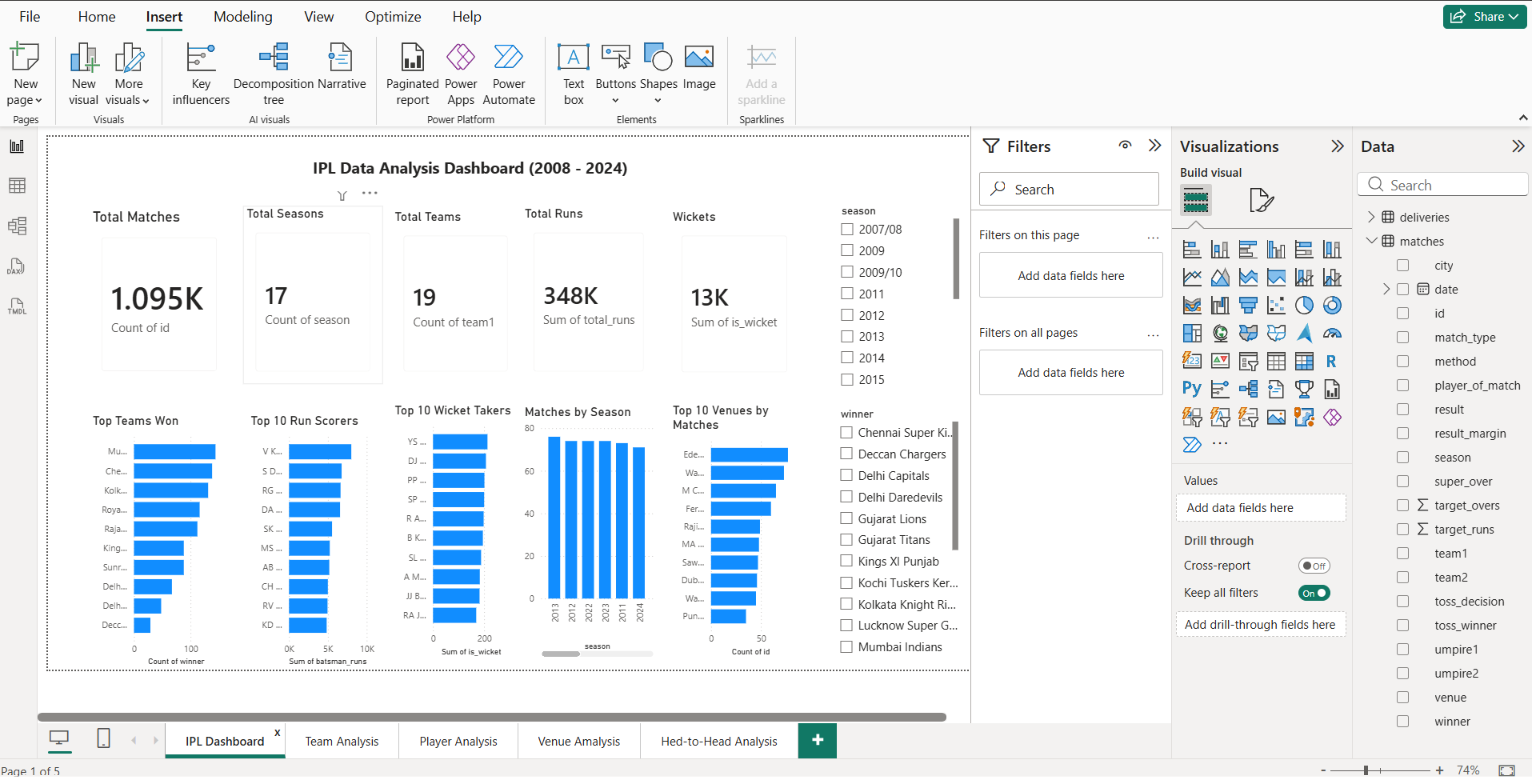

This screenshot's page, from the dashboard's own definition file:
{"tool":"powerbi","page":{"name":"IPL Dashboard","canvas":[1280,720],"ordinal":0},"visuals":[{"type":"cardVisual","title":"Total Matches","fields":{"Data":["CountNonNull(matches.id)"]},"box":[54.9,97.4,190.7,237.4],"z":0},{"type":"cardVisual","title":"Total Seasons","fields":{"Data":["Count(matches.season)"]},"box":[263.5,93.3,189.4,241.5],"z":1000},{"type":"cardVisual","title":"Total Teams","fields":{"Data":["Count(matches.team1)"]},"box":[463.8,97.4,175.6,237.4],"z":2000},{"type":"cardVisual","title":"Total Runs","fields":{"Data":["Sum(deliveries.total_runs)"]},"box":[639.5,93.3,183.9,241.5],"z":3000},{"type":"cardVisual","title":"Wickets","fields":{"Data":["Sum(deliveries.is_wicket)"]},"box":[839.8,97.4,177,238.8],"z":4000},{"type":"clusteredBarChart","title":"Top Teams  Won","fields":{"Category":["matches.winner"],"Y":["CountNonNull(matches.winner)"]},"box":[54.9,373.2,190.7,347.2],"z":5000},{"type":"clusteredBarChart","title":"Top 10 Run Scorers","fields":{"Category":["deliveries.batter"],"Y":["Sum(deliveries.batsman_runs)"]},"box":[269,373.2,177,347.2],"z":6000},{"type":"clusteredBarChart","title":"Top 10 Wicket Takers","fields":{"Category":["deliveries.bowler"],"Y":["Sum(deliveries.is_wicket)"]},"box":[463.8,359.5,175.6,347.2],"z":7000},{"type":"clusteredColumnChart","title":"Matches by Season","fields":{"Category":["matches.season"],"Y":["CountNonNull(matches.id)"]},"box":[639.5,360.9,183.9,347.2],"z":8000},{"type":"clusteredBarChart","title":"Top 10 Venues by Matches","fields":{"Category":["matches.venue"],"Y":["CountNonNull(matches.id)"]},"box":[839.8,359.5,177,347.2],"z":9000},{"type":"slicer","fields":{"Values":["matches.season"]},"box":[1059.4,86.4,177,260.7],"z":10000},{"type":"slicer","fields":{"Values":["matches.winner"]},"box":[1058,360.9,177,347.2],"z":11000},{"type":"textbox","box":[352.7,22,441.9,52.1],"z":12000}]}

Visuals, with their boxes on the page's 1280x720 design canvas (x1, y1, x2, y2). These are canvas units, not pixel positions in the 1532x777 screenshot, which may show the page scaled, cropped or inside an application window:
"Total Matches" cardVisual: <region>55, 97, 246, 335</region>
"Total Seasons" cardVisual: <region>264, 93, 453, 335</region>
"Total Teams" cardVisual: <region>464, 97, 639, 335</region>
"Total Runs" cardVisual: <region>640, 93, 823, 335</region>
"Wickets" cardVisual: <region>840, 97, 1017, 336</region>
"Top Teams  Won" clusteredBarChart: <region>55, 373, 246, 720</region>
"Top 10 Run Scorers" clusteredBarChart: <region>269, 373, 446, 720</region>
"Top 10 Wicket Takers" clusteredBarChart: <region>464, 360, 639, 707</region>
"Matches by Season" clusteredColumnChart: <region>640, 361, 823, 708</region>
"Top 10 Venues by Matches" clusteredBarChart: <region>840, 360, 1017, 707</region>
slicer - matches.season: <region>1059, 86, 1236, 347</region>
slicer - matches.winner: <region>1058, 361, 1235, 708</region>
textbox: <region>353, 22, 795, 74</region>
